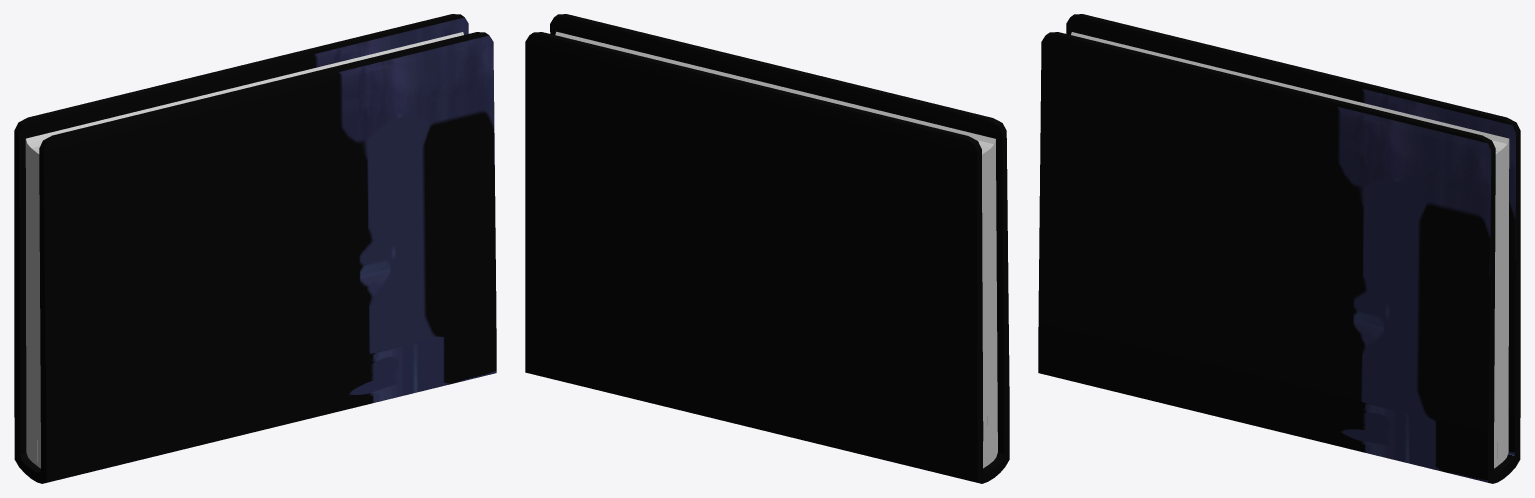
File: Arm_Book_closed_003.obj
3 renders of one model, left to right at view 1: azimuth 30°, elevation 25°; view 2: azimuth 150°, elevation 25°; view 3: azimuth 330°, elevation 25°, orthographic.
Visible parts, largest first — view 1: obj_Book_closed.003; view 2: obj_Book_closed.003; view 3: obj_Book_closed.003.
Boxes of the visible parts, left/top/right/bottom form: obj_Book_closed.003: left=14, top=14, right=496, bottom=483; obj_Book_closed.003: left=525, top=14, right=1009, bottom=483; obj_Book_closed.003: left=1038, top=14, right=1520, bottom=483.
Bounding box in the file's own units: 0.296 × 0.2178 × 0.0366.
